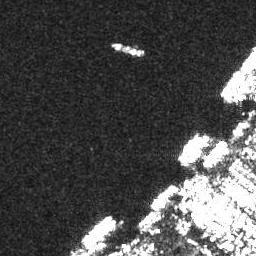ship: (79, 212, 113, 245), (149, 179, 178, 212), (178, 131, 201, 163), (218, 70, 243, 96), (111, 41, 146, 59)
